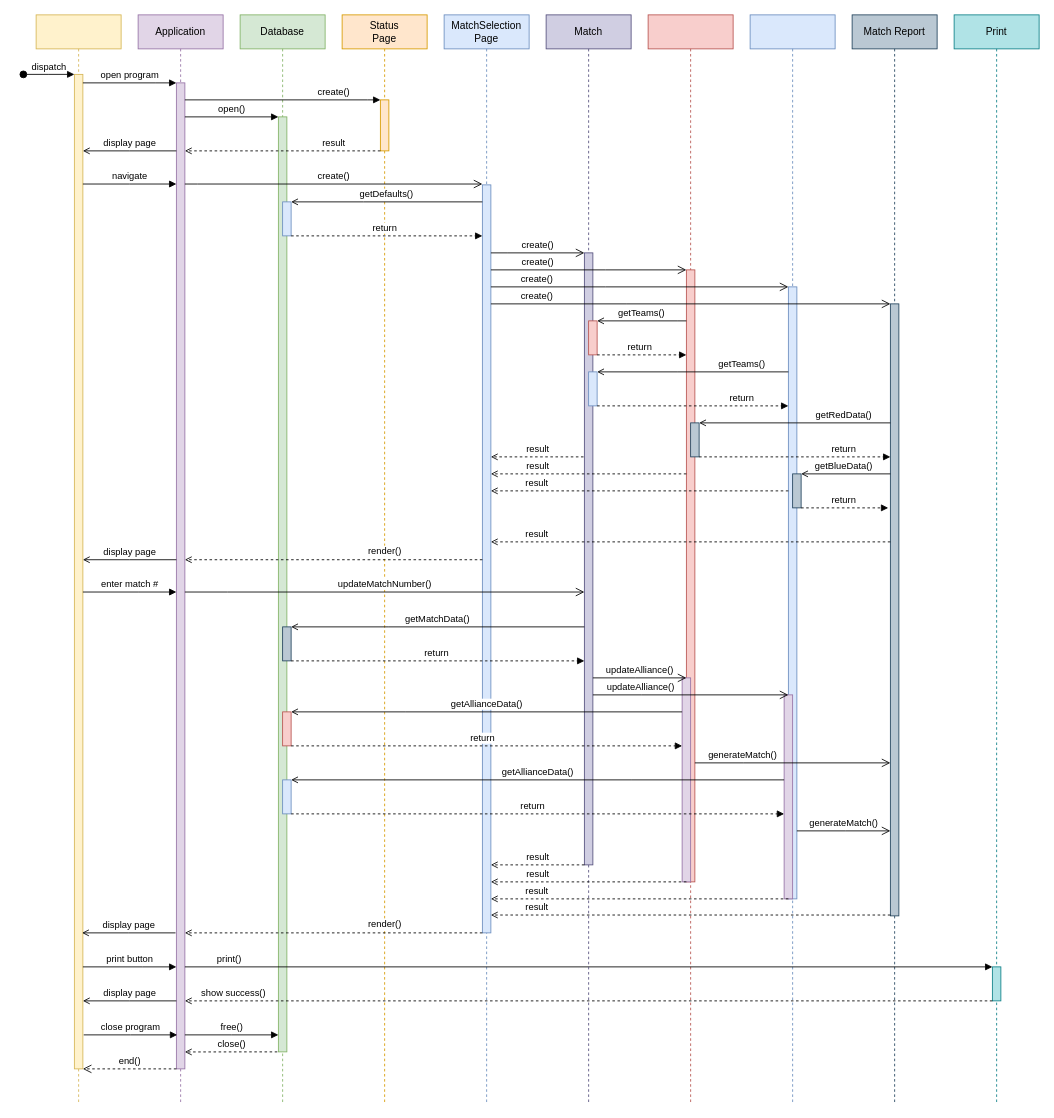
The diagram is 1054 pixels wide and 1118 high, and some of its shapes have lost their labels. The shapes that lost their labels are listed below. From the top down, each one's box as (x1, y1, x2, y2) in pixels, then its label:
(35, 14, 121, 1103): User
(647, 14, 733, 1103): Red Alliance
(749, 14, 835, 1103): Blue Alliance
